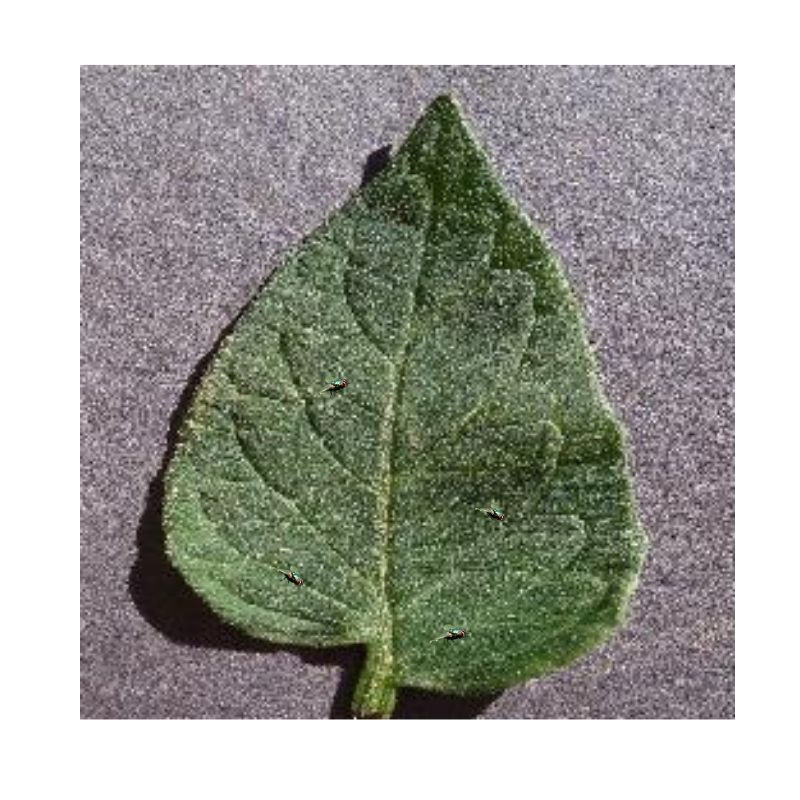liriomyza: (278, 566, 306, 589), (429, 627, 467, 643), (479, 503, 507, 522), (321, 376, 350, 394)
